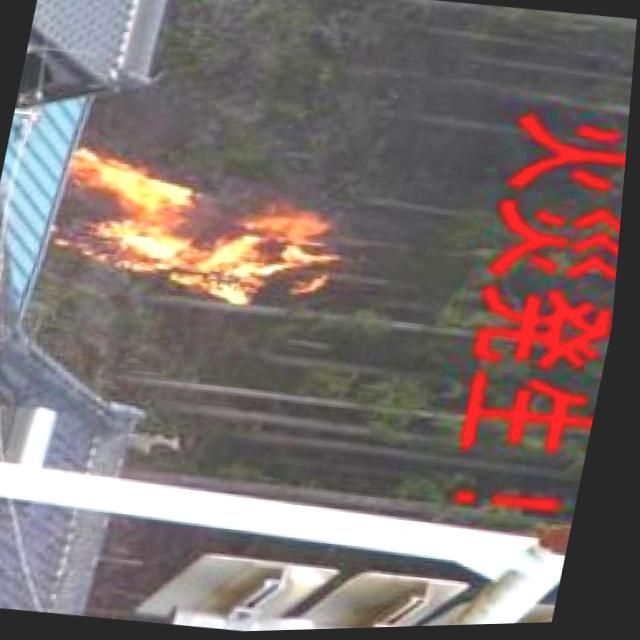Fire: (40, 122, 388, 332)
